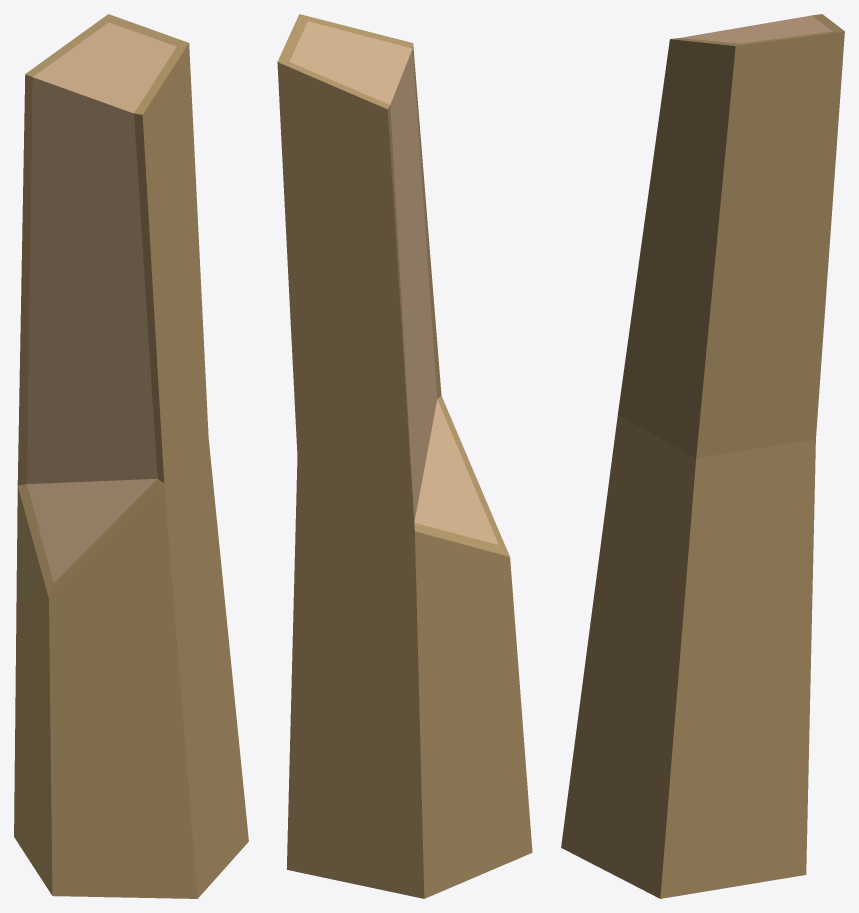
Rendered from Acacia_Stump_01_LOD.fbx.
The picture shows the model from 3 angles, left to right: view 1: azimuth 30°, elevation 25°; view 2: azimuth 150°, elevation 25°; view 3: azimuth 270°, elevation 25°; orthographic projection. The views are drawn at different scales.
Visible parts, largest first — view 1: Acacia_Stump_01_LOD0; view 2: Acacia_Stump_01_LOD0; view 3: Acacia_Stump_01_LOD0.
Boxes of the visible parts, x1,y1,x2,y2 form: Acacia_Stump_01_LOD0: [14, 14, 248, 898]; Acacia_Stump_01_LOD0: [277, 14, 532, 898]; Acacia_Stump_01_LOD0: [561, 14, 844, 898].
Size of what is drawn, in the model's own units: 69.49 by 254 by 77.97.
